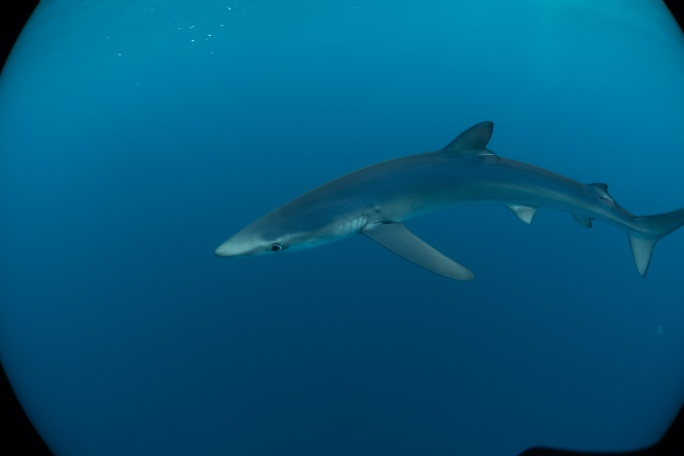Azul: (196, 108, 684, 318)
